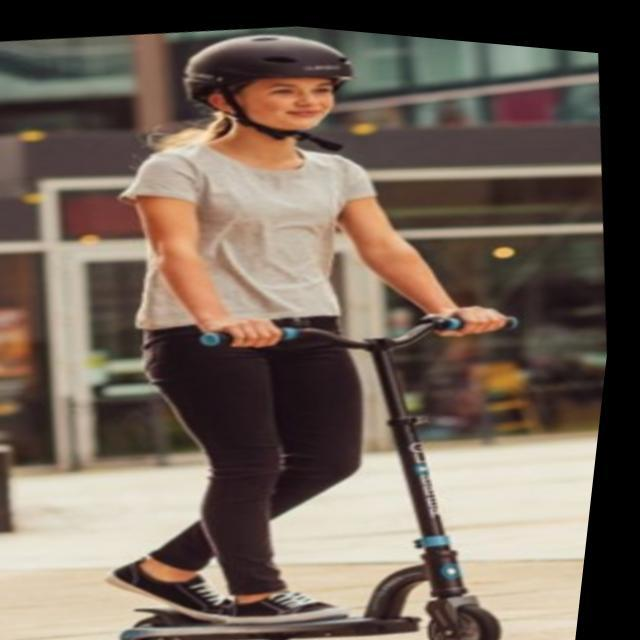Helmet: (179, 29, 356, 138)
